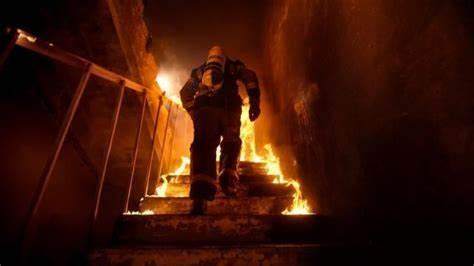Fire: (260, 140, 318, 218), (165, 150, 190, 175), (150, 174, 173, 198), (240, 103, 249, 162), (123, 204, 156, 216), (251, 123, 259, 161)
